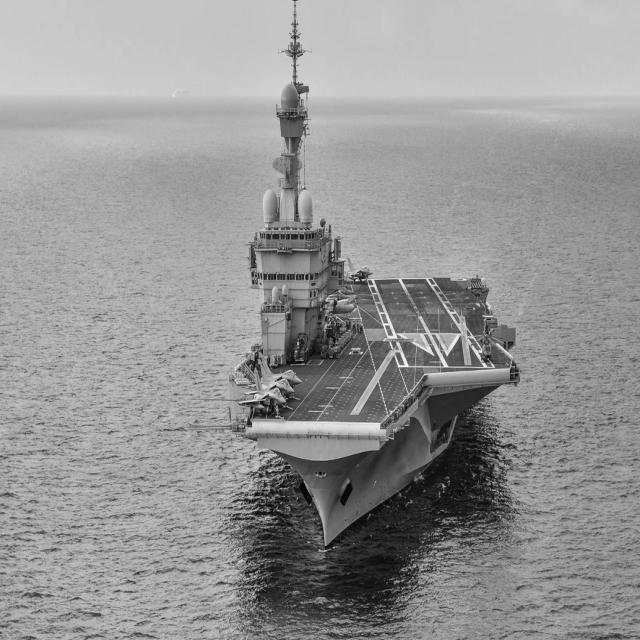Portanaves: (226, 1, 525, 557)
